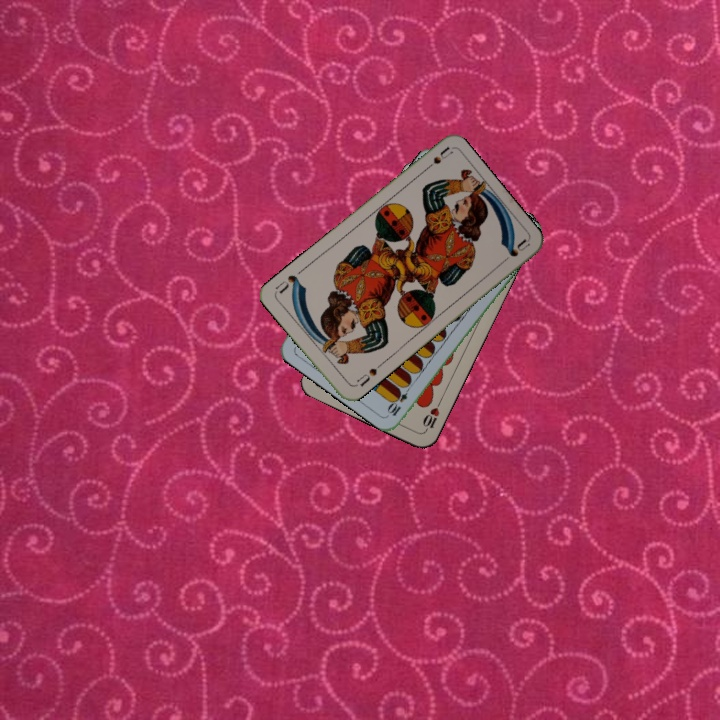E10: (384, 381, 414, 419)
H10: (419, 396, 444, 434)
SU: (418, 143, 454, 175), (350, 359, 384, 389)
